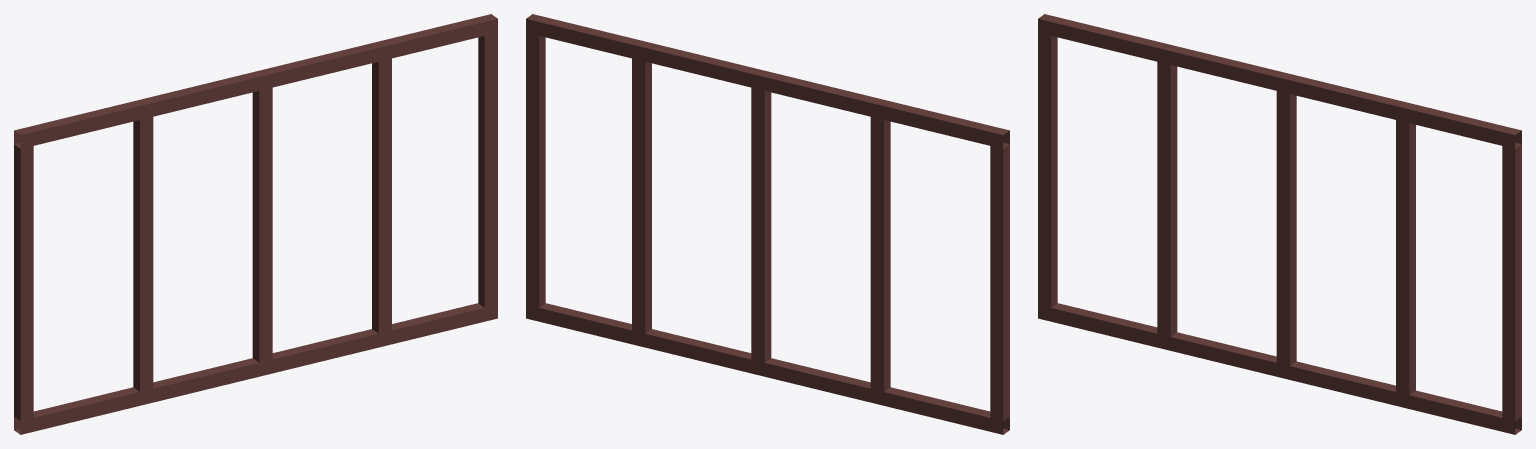
Rendered from DBK_WinWide_Wood_Long_End_Mirror.fbx.
3 views of the same model, side by side, from view 1: azimuth 30°, elevation 25°; view 2: azimuth 150°, elevation 25°; view 3: azimuth 330°, elevation 25° (orthographic).
Parts seen in each view (by area): view 1: DBK_WinWide_Wood_Long_End_Mirror; view 2: DBK_WinWide_Wood_Long_End_Mirror; view 3: DBK_WinWide_Wood_Long_End_Mirror.
Boxes of the visible parts, left/top/right/bottom form: DBK_WinWide_Wood_Long_End_Mirror: left=14, top=14, right=497, bottom=434; DBK_WinWide_Wood_Long_End_Mirror: left=526, top=14, right=1009, bottom=434; DBK_WinWide_Wood_Long_End_Mirror: left=1038, top=14, right=1521, bottom=434.
Bounding box in the file's own units: 200 × 120 × 4.75.
